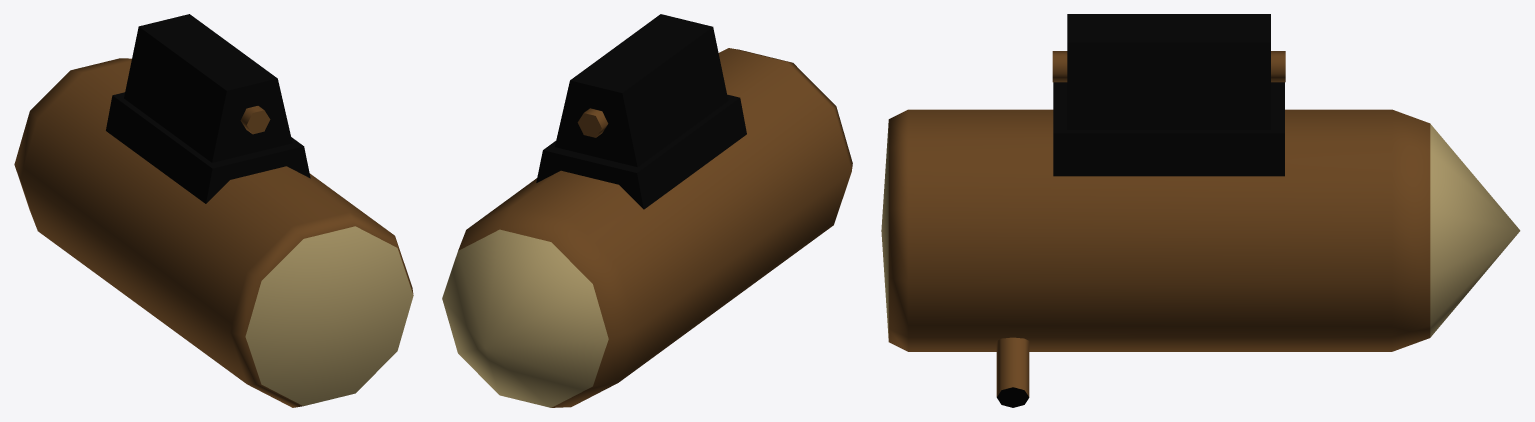
The model's file is WoodenLog.fbx.
3 renders of one model, left to right at view 1: azimuth 30°, elevation 25°; view 2: azimuth 150°, elevation 25°; view 3: azimuth 270°, elevation 25°, orthographic. The views are drawn at different scales.
Parts seen in each view (by area): view 1: polySurface4; view 2: polySurface4; view 3: polySurface4.
Part boxes in pixels (x1=…): polySurface4: x1=14, y1=14, x2=413, y2=407; polySurface4: x1=442, y1=14, x2=852, y2=407; polySurface4: x1=881, y1=14, x2=1520, y2=407.
Bounding box in the file's own units: 4 × 5.05 × 9.16.
